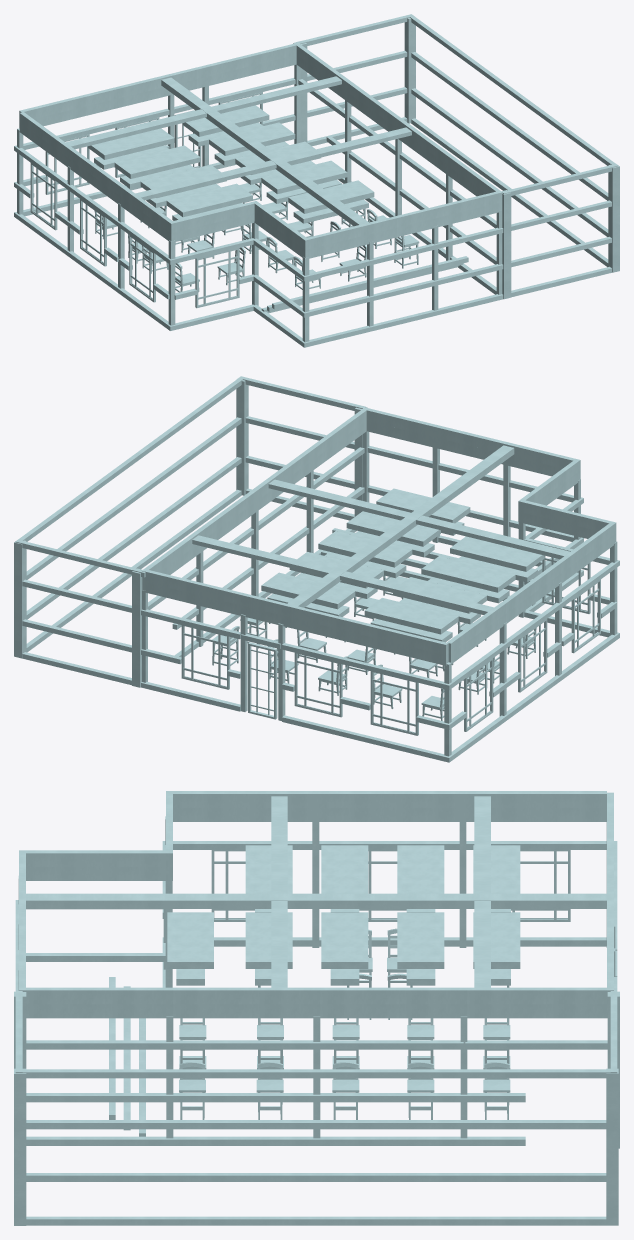
The model's file is resto_ni_teo_17.obj.
3 renders of one model, top to bottom at view 1: azimuth 30°, elevation 25°; view 2: azimuth 150°, elevation 25°; view 3: azimuth 270°, elevation 25°, orthographic. The views are drawn at different scales.
Size of the model in its own units: 18.86 by 4.8 by 17.08.
